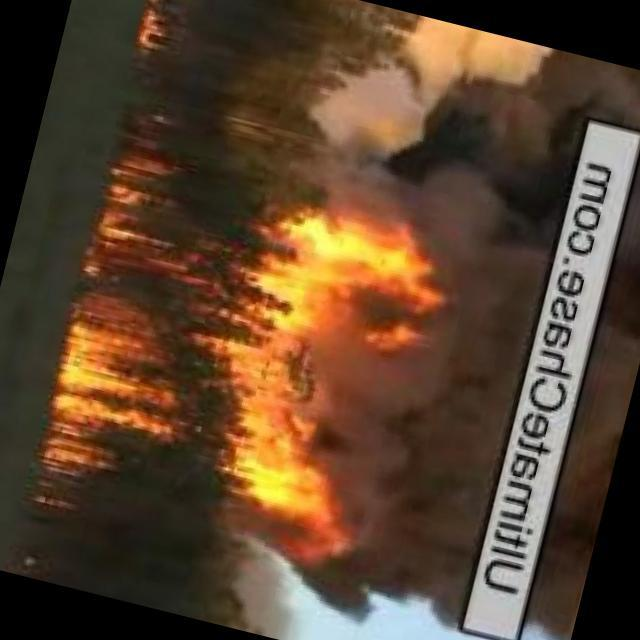Fire: (32, 157, 454, 574), (130, 1, 179, 62)
